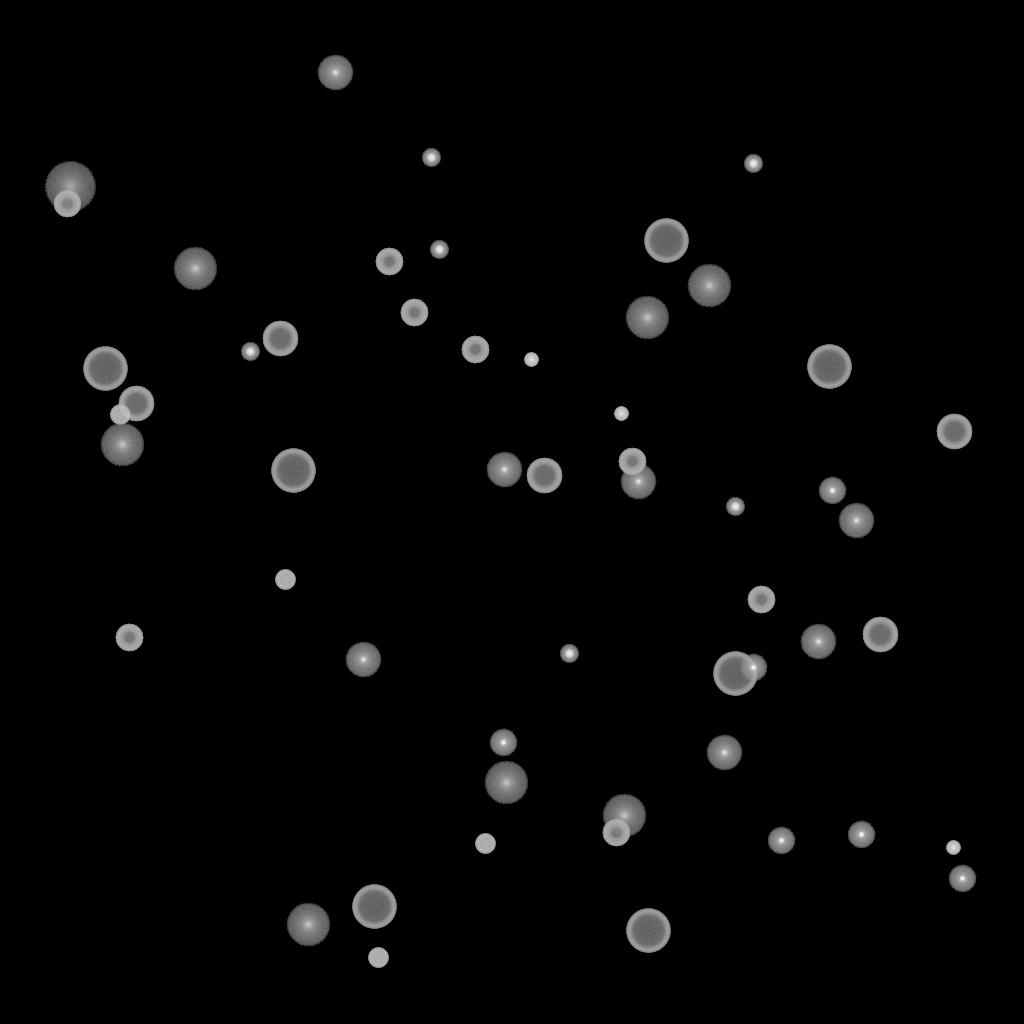depth:-10: (767, 827, 795, 855), (739, 654, 767, 682), (489, 729, 517, 757), (948, 865, 976, 893), (818, 477, 846, 505), (847, 821, 875, 849)
depth:-20: (726, 498, 744, 516), (241, 343, 259, 361), (422, 149, 440, 167), (560, 645, 578, 663), (744, 155, 762, 173), (430, 241, 448, 259)
depth:-30: (946, 841, 960, 855), (524, 353, 538, 367), (614, 407, 628, 421)
depth:-40: (110, 405, 130, 425), (475, 834, 495, 854), (275, 570, 295, 590), (368, 948, 388, 968)
depth:-50: (602, 819, 630, 847), (400, 299, 428, 327), (618, 448, 646, 476), (375, 248, 403, 276), (461, 336, 489, 364), (115, 624, 143, 652), (53, 190, 81, 218), (747, 586, 775, 614)
depth:-60: (526, 458, 562, 494), (936, 414, 972, 450), (118, 386, 154, 422), (862, 617, 898, 653), (262, 321, 298, 357)
depth:-70: (713, 652, 757, 696), (352, 885, 396, 929), (644, 219, 688, 263), (83, 347, 127, 391), (271, 449, 315, 493), (626, 909, 670, 953), (807, 345, 851, 389)
depth:0: (317, 55, 353, 91), (486, 452, 522, 488), (620, 464, 656, 500), (838, 503, 874, 539), (345, 642, 381, 678), (800, 624, 836, 660), (706, 735, 742, 771)
depth:10: (484, 761, 528, 805), (687, 264, 731, 308), (173, 247, 217, 291), (286, 903, 330, 947), (100, 423, 144, 467), (625, 296, 669, 340), (602, 794, 646, 838)
depth:20: (44, 162, 96, 212)
